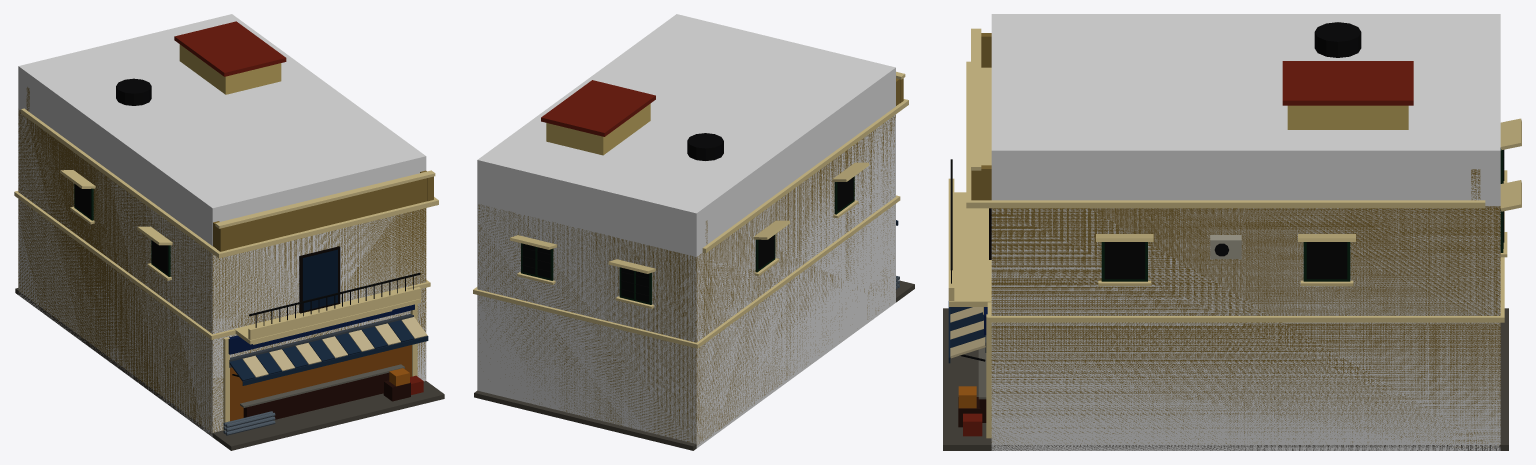
File: K05_metal_market_shop.glb
The picture shows the model from 3 angles, left to right: view 1: azimuth 30°, elevation 25°; view 2: azimuth 150°, elevation 25°; view 3: azimuth 270°, elevation 25°; orthographic projection. The views are drawn at different scales.
Visible parts, largest first — view 1: LOD0, COL_Main; view 2: COL_Main, LOD0; view 3: COL_Main, LOD0.
Part boxes in pixels (x1,y1,x2,y2): LOD0: (14,21,444,450); COL_Main: (18,14,426,436); COL_Main: (477,14,895,448); LOD0: (473,71,914,450); COL_Main: (991,14,1500,450); LOD0: (943,22,1521,450).
Size of what is drawn, in the model's own units: 9.05 by 9.06 by 14.32.
